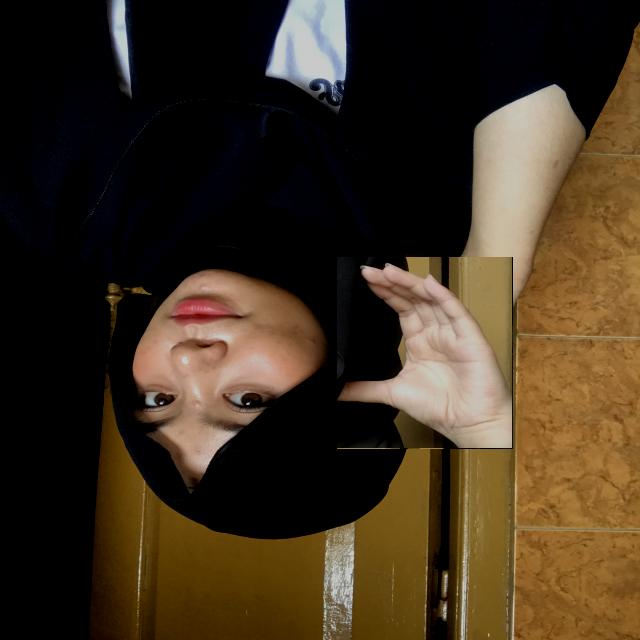mendengar: (337, 257, 513, 449)
